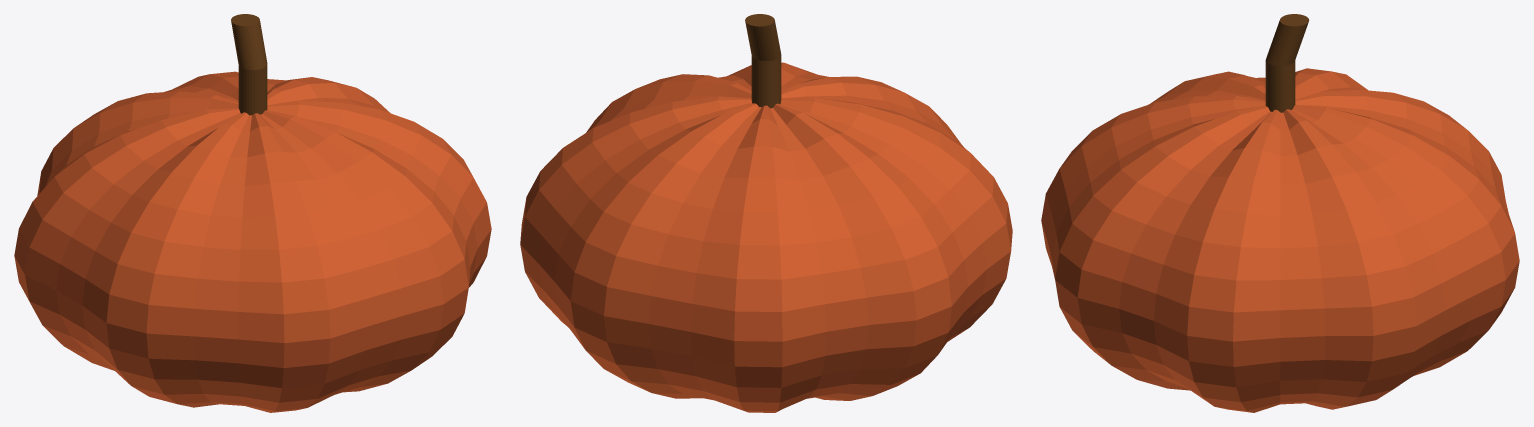
The model's file is Pumpkin.fbx.
The picture shows the model from 3 angles, left to right: view 1: azimuth 30°, elevation 25°; view 2: azimuth 150°, elevation 25°; view 3: azimuth 270°, elevation 25°; orthographic projection. The views are drawn at different scales.
Parts seen in each view (by area): view 1: Body, Stem; view 2: Body, Stem; view 3: Body, Stem.
Boxes of the visible parts, left/top/right/bottom form: Body: left=14, top=71, right=491, bottom=412; Stem: left=231, top=14, right=267, bottom=115; Body: left=520, top=62, right=1012, bottom=412; Stem: left=745, top=14, right=781, bottom=108; Body: left=1041, top=68, right=1519, bottom=412; Stem: left=1265, top=14, right=1309, bottom=112.
Bounding box in the file's own units: 196 × 162 × 196.
